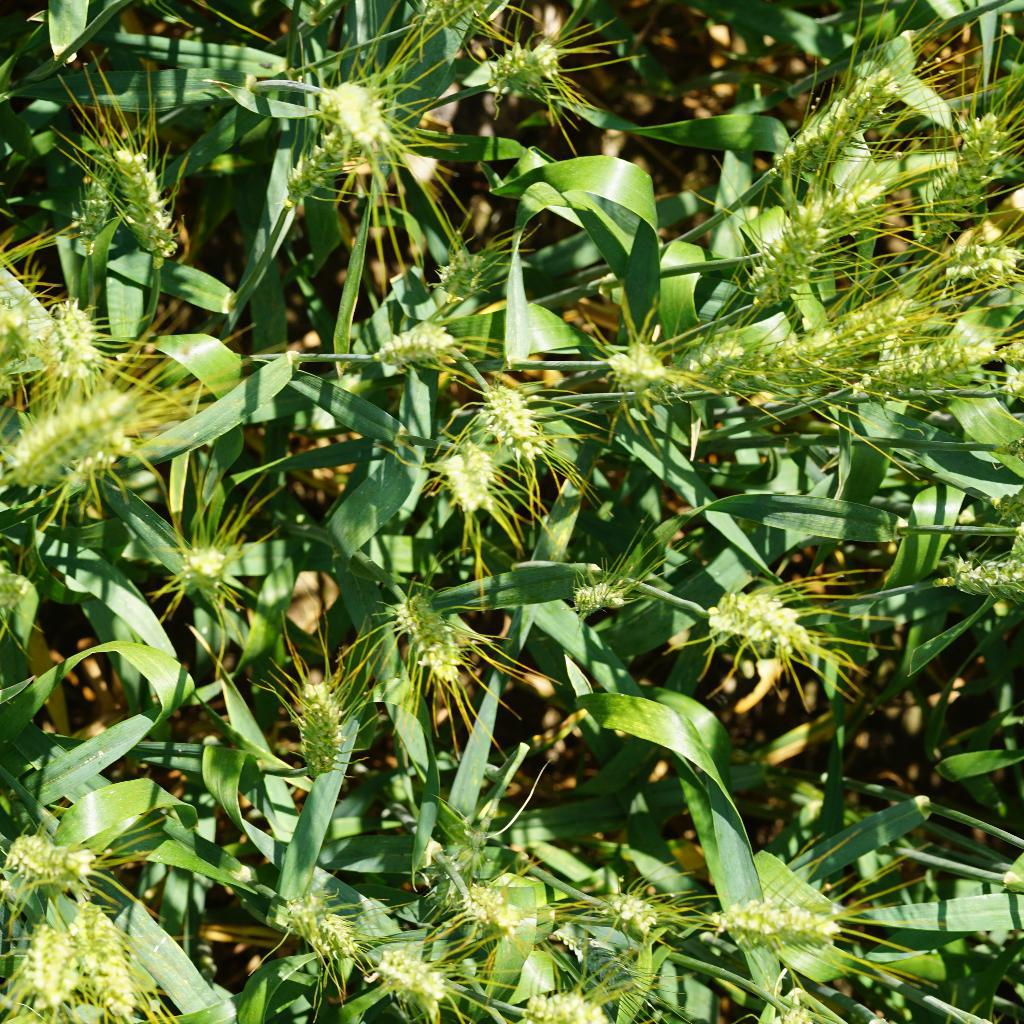0-0: (747, 66, 897, 172), (0, 392, 145, 485), (701, 583, 833, 680), (105, 127, 201, 257), (925, 93, 1008, 234), (373, 579, 473, 686), (776, 296, 940, 358), (743, 194, 825, 317), (870, 336, 1001, 408), (41, 286, 116, 391), (20, 909, 99, 1008), (79, 905, 149, 1016), (923, 230, 1024, 306), (720, 896, 845, 957), (432, 231, 549, 296), (284, 664, 351, 772), (276, 131, 367, 210), (474, 372, 553, 460), (302, 75, 395, 149), (276, 879, 359, 961), (172, 518, 246, 606), (675, 316, 752, 399), (0, 826, 98, 890), (67, 150, 127, 253), (610, 874, 690, 946), (381, 941, 459, 1012), (458, 874, 531, 948), (486, 40, 582, 96), (385, 326, 478, 380), (591, 332, 668, 397), (832, 182, 896, 256), (0, 291, 43, 392), (516, 982, 617, 1024), (444, 433, 497, 512), (938, 549, 1024, 597), (565, 567, 634, 620)
